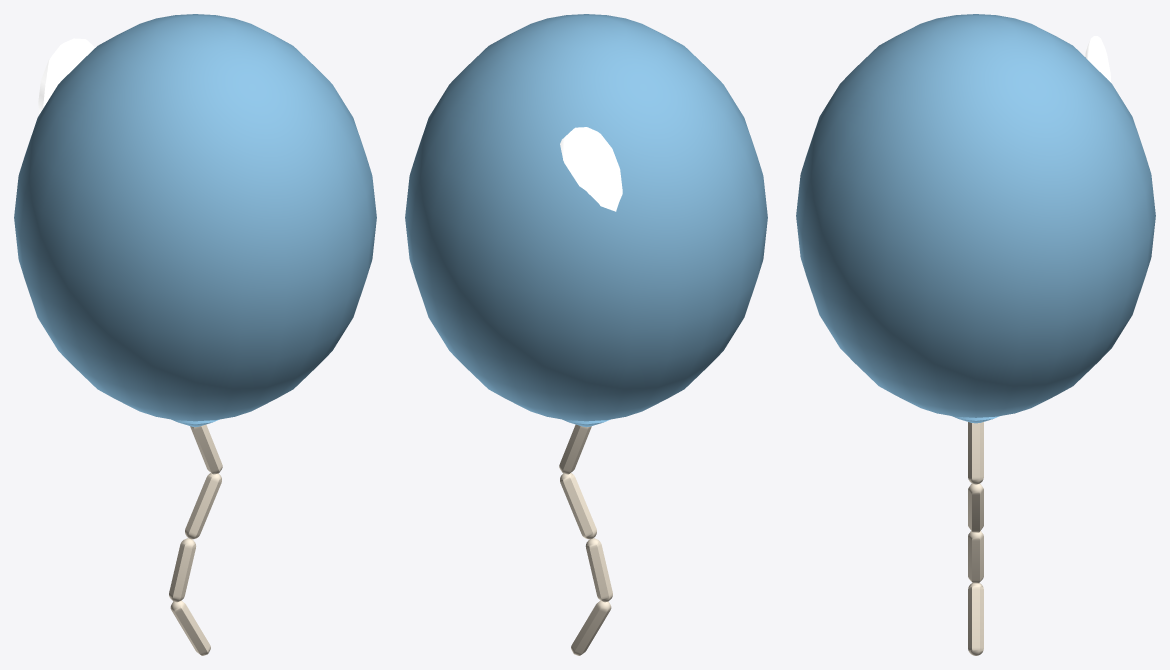
Rendered from float_balloon.glb.
The picture shows the model from 3 angles, left to right: view 1: azimuth 30°, elevation 25°; view 2: azimuth 150°, elevation 25°; view 3: azimuth 270°, elevation 25°; orthographic projection.
Parts seen in each view (by area): view 1: FloatBalloon; view 2: FloatBalloon; view 3: FloatBalloon.
Part boxes in pixels (x1,y1,x2,y2): FloatBalloon: (14,14,376,655); FloatBalloon: (405,14,767,655); FloatBalloon: (796,14,1155,655).
Bounding box in the file's own units: 0.36 × 0.6877 × 0.36.
